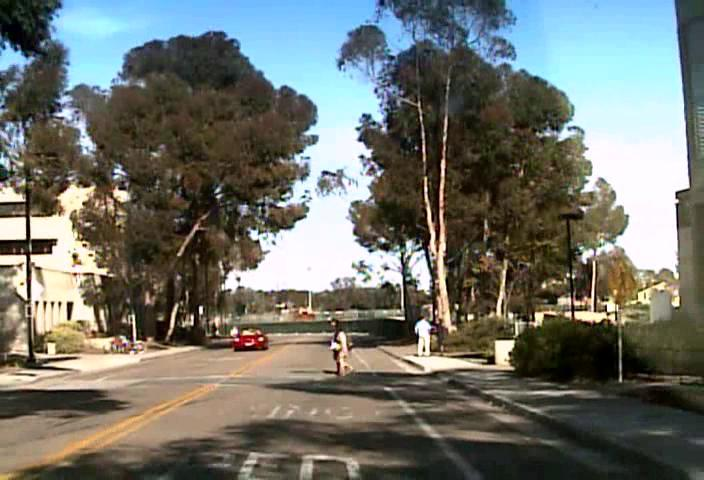pedestrianCrossing: (606, 262, 637, 306)
